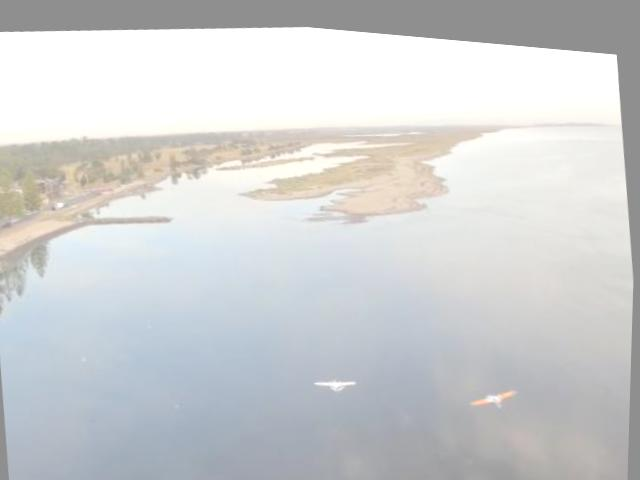uav: (470, 370, 524, 410), (315, 364, 360, 393)
